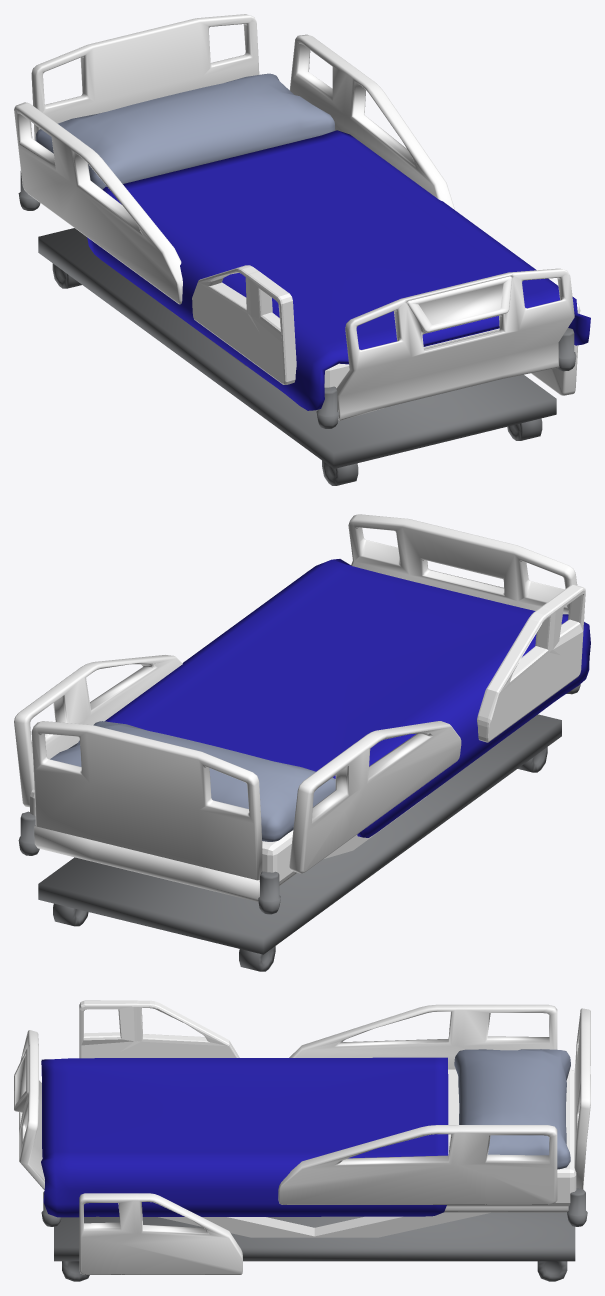
The model's file is hospital-bed.glb.
3 renders of one model, top to bottom at view 1: azimuth 30°, elevation 25°; view 2: azimuth 150°, elevation 25°; view 3: azimuth 270°, elevation 25°, orthographic. The views are drawn at different scales.
Visible parts, largest first — view 1: Plane, Cube.006, Cube.001, Cube.003, Cube.008, Cube.002, Cube.004, Cylinder, Cube.007, Cube.009, Cube; view 2: Plane, Cube.002, Cube.006, Cube.001, Cube.003, Cube.004, Cube.008, Cube.007, Cylinder, Cube; view 3: Plane, Cube.001, Cube.006, Cube.008, Cube.009, Cube.004, Cube.005, Cube.003, Cube.002, Cube, Cube.007, Cylinder.
Boxes of the visible parts, bbox=[...] form: Plane: bbox=[87, 130, 590, 410]; Cube.006: bbox=[38, 228, 556, 468]; Cube.001: bbox=[14, 34, 454, 304]; Cube.003: bbox=[336, 268, 574, 420]; Cube.008: bbox=[35, 73, 335, 189]; Cube.002: bbox=[31, 14, 259, 140]; Cube.004: bbox=[192, 265, 296, 384]; Cylinder: bbox=[18, 171, 576, 428]; Cube.007: bbox=[52, 263, 542, 485]; Cube.009: bbox=[531, 302, 580, 395]; Cube: bbox=[324, 328, 499, 387]; Plane: bbox=[105, 559, 590, 837]; Cube.002: bbox=[31, 721, 262, 881]; Cube.006: bbox=[38, 714, 561, 954]; Cube.001: bbox=[14, 655, 461, 873]; Cube.003: bbox=[34, 514, 577, 901]; Cube.004: bbox=[477, 584, 585, 742]; Cube.008: bbox=[50, 721, 335, 841]; Cube.007: bbox=[53, 747, 547, 971]; Cylinder: bbox=[18, 684, 580, 914]; Cube: bbox=[30, 789, 295, 884]; Plane: bbox=[41, 1057, 448, 1217]; Cube.001: bbox=[278, 1004, 557, 1204]; Cube.006: bbox=[54, 1212, 575, 1261]; Cube.008: bbox=[454, 1049, 570, 1169]; Cube.009: bbox=[79, 1193, 242, 1274]; Cube.004: bbox=[79, 1000, 239, 1058]; Cube.005: bbox=[158, 1212, 490, 1237]; Cube.003: bbox=[14, 1030, 584, 1212]; Cube.002: bbox=[574, 1008, 590, 1188]; Cube: bbox=[447, 1069, 576, 1206]; Cube.007: bbox=[62, 1261, 567, 1281]; Cylinder: bbox=[41, 1188, 587, 1226].
Size of the model in its own units: 1.75 by 1.21 by 3.29.
Materials: 1 (1 with a texture image).
